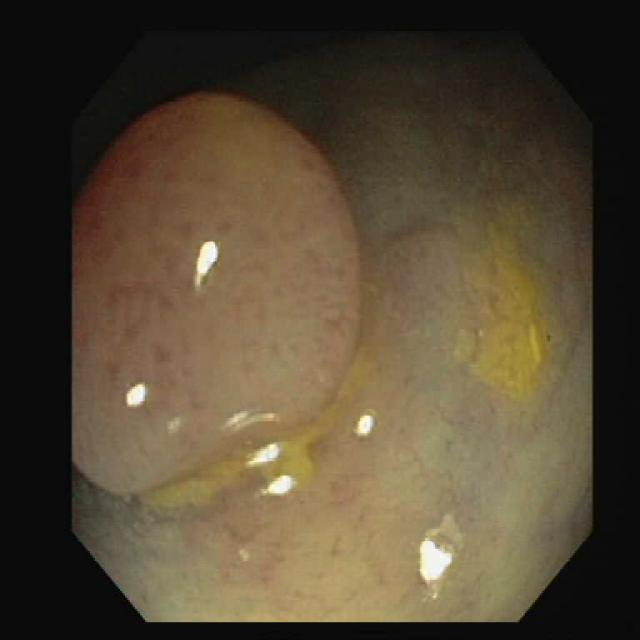tumor: (72, 93, 358, 493)
